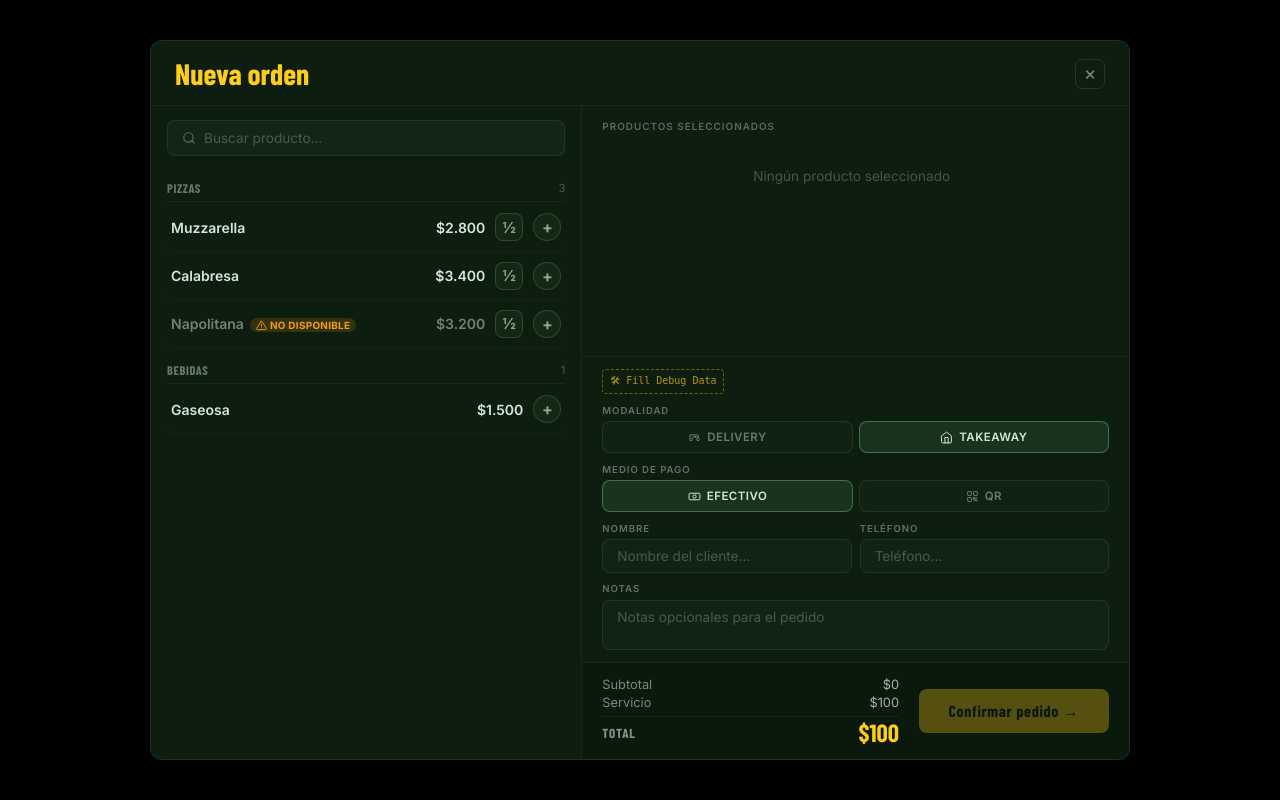
Scenario: NewOrderModal · mitad y mitad (US-HH-F-03) › volver a tocar el ½ de la misma pizza cancela la combinación
The image size is (1280, 800).
Expected: the text "Muzzarella" is shown, x1=171 y1=219 x2=245 y2=236
Click the button named "mitad y mitad" at (509, 227), box x1=495 y1=213 x2=523 y2=241
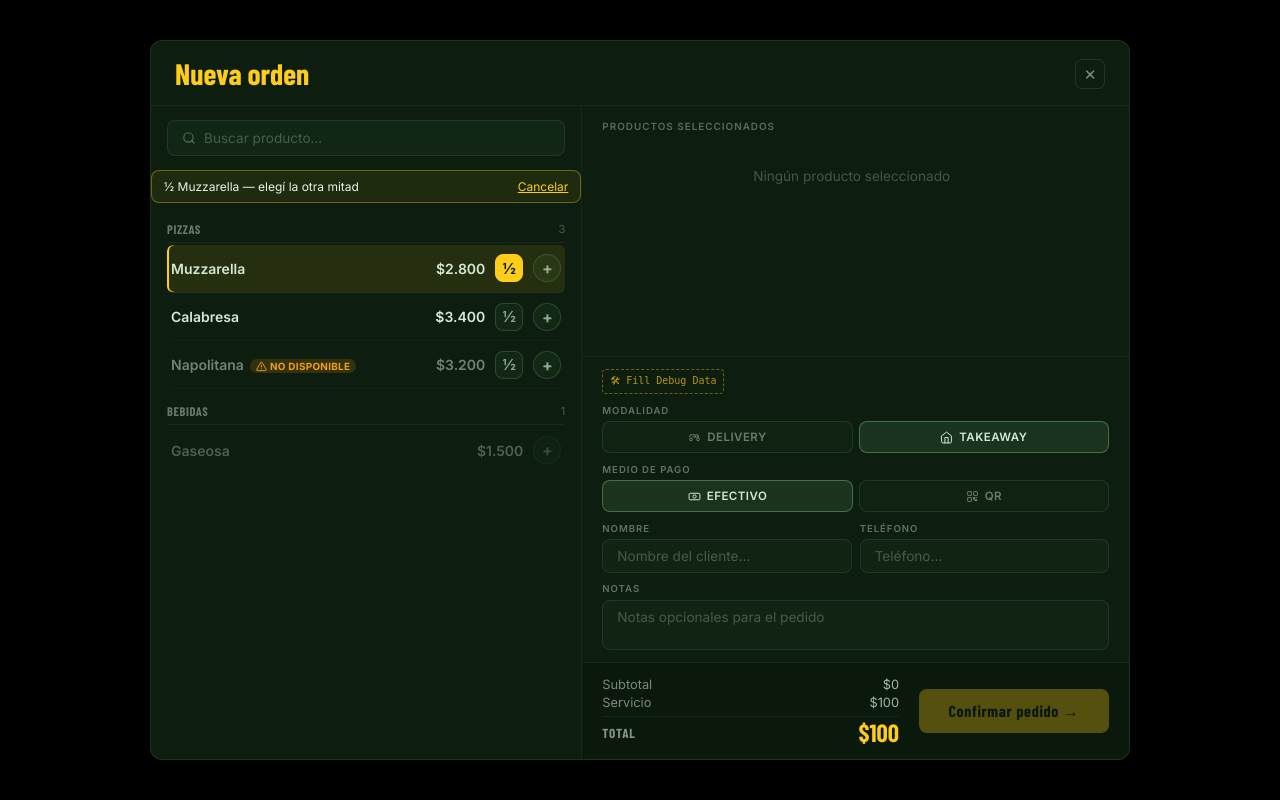
Click the button named "mitad y mitad" at (509, 268), box x1=495 y1=254 x2=523 y2=282
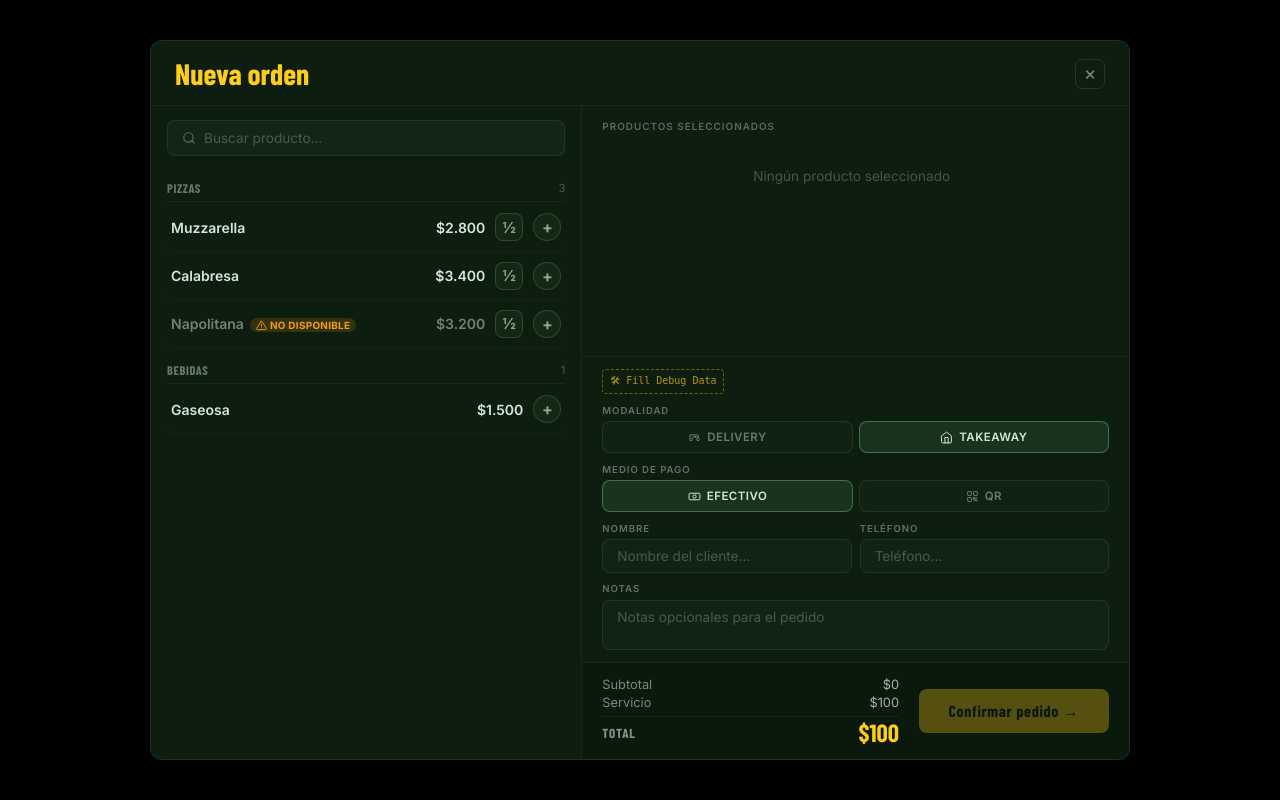
Expected: the text "½ Muzzarella" is gone
